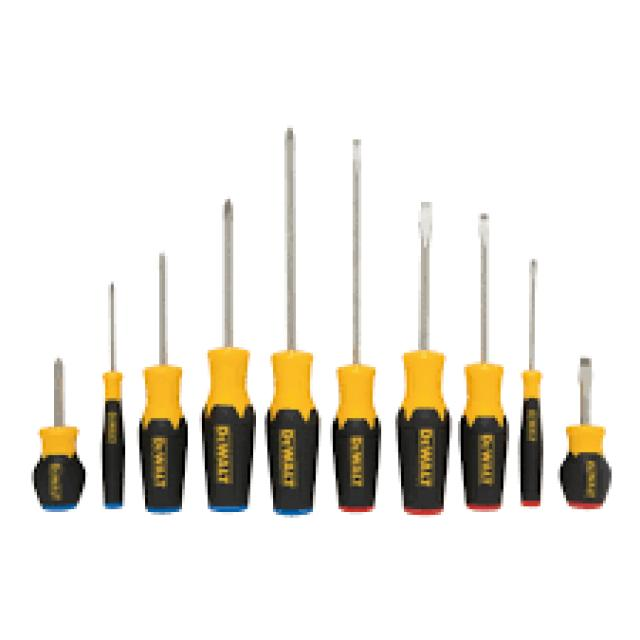screw driver: (332, 126, 394, 531), (265, 119, 325, 513), (193, 187, 265, 515), (391, 187, 457, 522), (460, 193, 523, 514), (136, 244, 196, 523), (23, 350, 92, 510), (556, 345, 614, 526)
